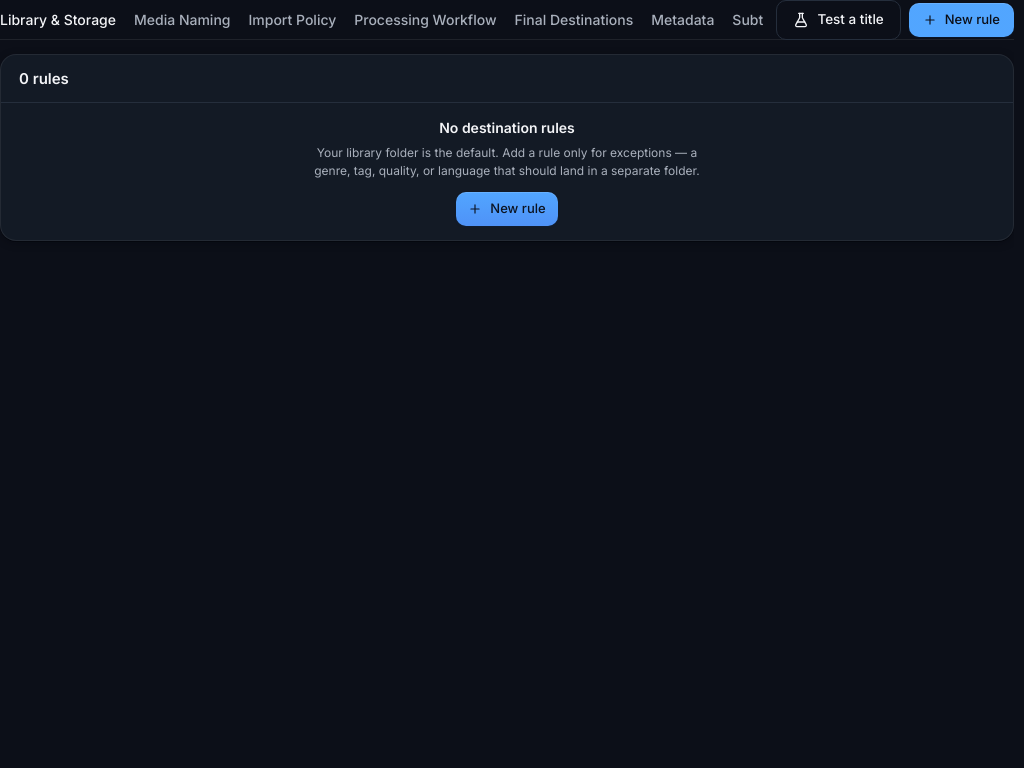
it: a new rule › starts as a movie genre rule going to the movie folder, at the normal order, switched on
What coordinates should you click on to do the following:
click the button "New rule" in the row of "Subtitles"
I would click on:
 (961, 20)
Its box is [909, 2, 1014, 36].
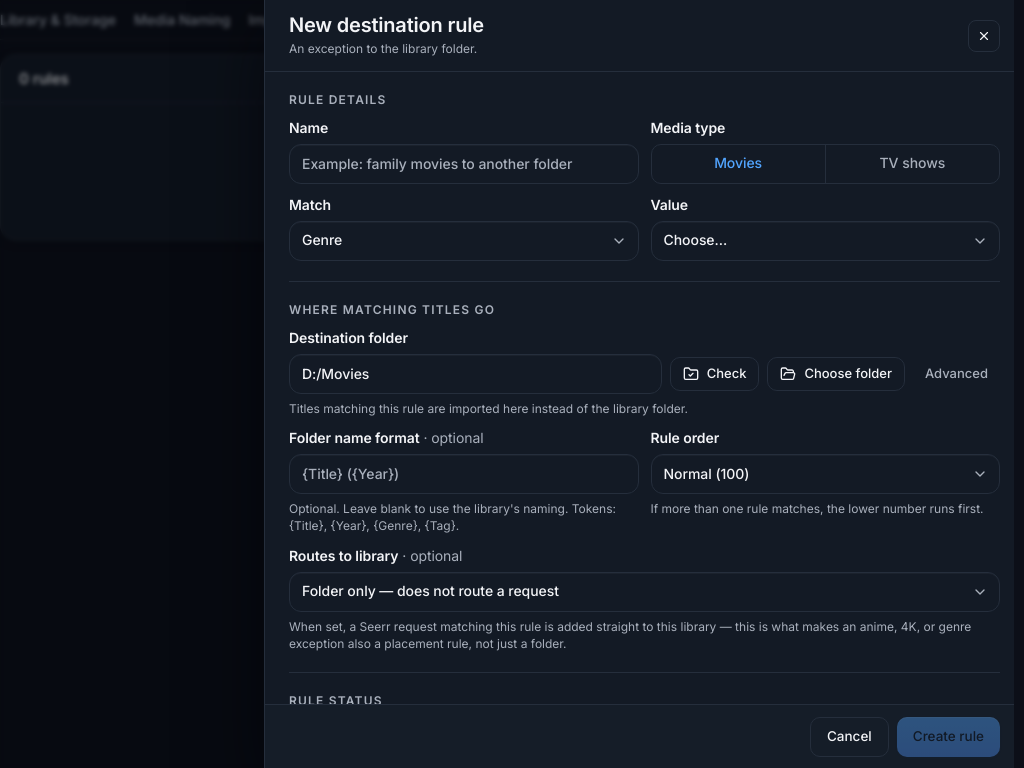
Expected: the heading "New destination rule" is shown, [289, 13, 484, 38]
Expected: the field labelled "Name" is empty, [289, 144, 638, 184]
Expected: the field labelled "Destination folder" holds "D:/Movies", [289, 354, 662, 394]
